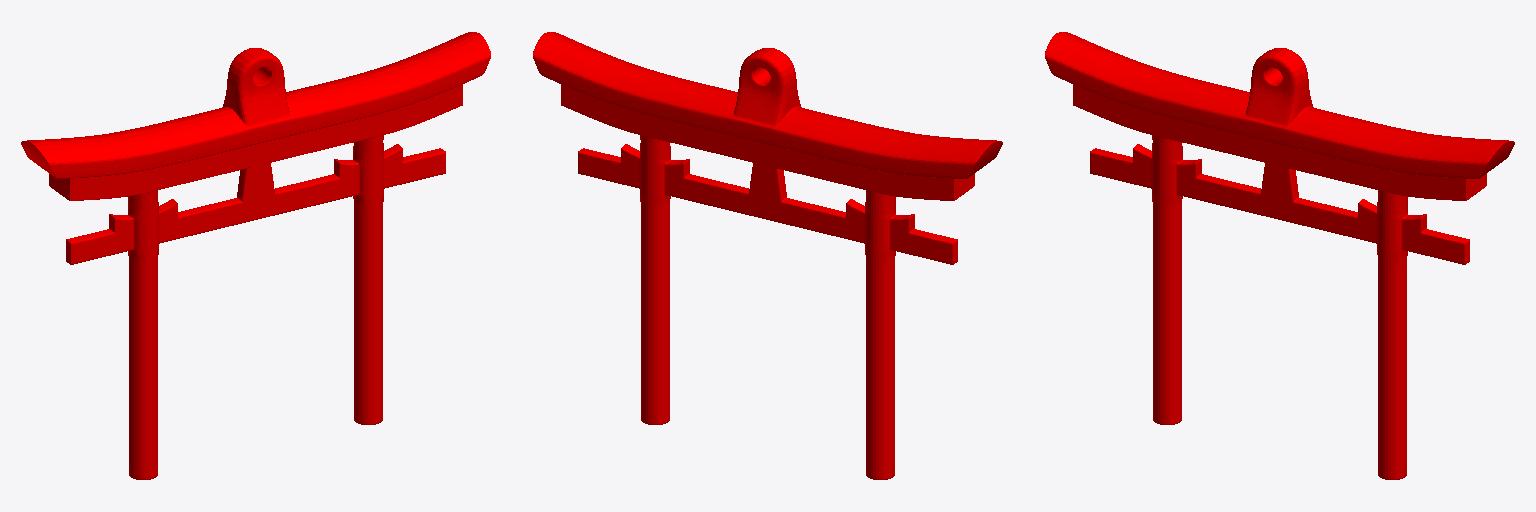
The robot description file, URDF, robot "gate":
<?xml version="1.0" ?>

<robot name="gate">

  <link name="base_link"> 

    <inertial>
      <origin rpy="0 0 0" xyz="0 0 0"/>
      <mass value="0."/>
      <inertia ixx="0" ixy="0.0" ixz="0.0" iyy="0" iyz="0.0" izz="0"/>
    </inertial>

    <visual>
      <origin rpy="0 0 0" xyz="0 0 0"/>
      <geometry>
        <mesh filename="./gate.obj" scale=" .06 .06 .06"/>
      </geometry> 
      <material name="grey">
        <color rgba="1. 0. 0. 1"/>
      </material> 
    </visual>

<!--     <collision>
      <origin rpy="0 0 0" xyz="0 0 0"/>
      <geometry>
        <mesh filename="./gate.obj" scale=" .06 .06 .06"/>
      </geometry>
    </collision>  --> 

  </link>

</robot>

--- Render facts (derived) ---
Views: 3 orthographic renders of the robot side by side, from view 1: azimuth 30°, elevation 25°; view 2: azimuth 150°, elevation 25°; view 3: azimuth 330°, elevation 25°.
Robot: gate — 1 links, 0 joints (none); root link base_link; default pose: all joints at 0.
Visible links, largest first — view 1: base_link; view 2: base_link; view 3: base_link.
Boxes of the visible links, left/top/right/bottom form: base_link: left=21, top=32, right=490, bottom=479; base_link: left=533, top=32, right=1002, bottom=479; base_link: left=1045, top=32, right=1514, bottom=479.
Bounding box of the posed robot: 0.4316 × 0.0481 × 0.3637 m (x, y, z).
1 mesh visuals loaded from 1 distinct referenced files (1 OBJ).